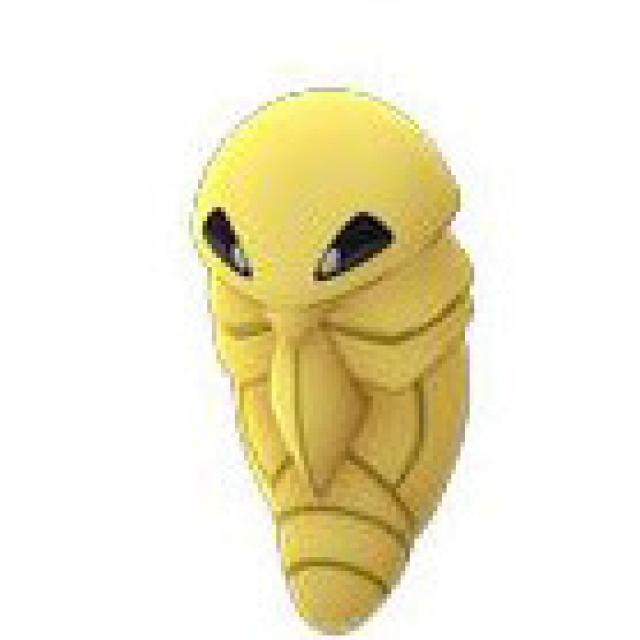Kakuna: (190, 81, 478, 640)
